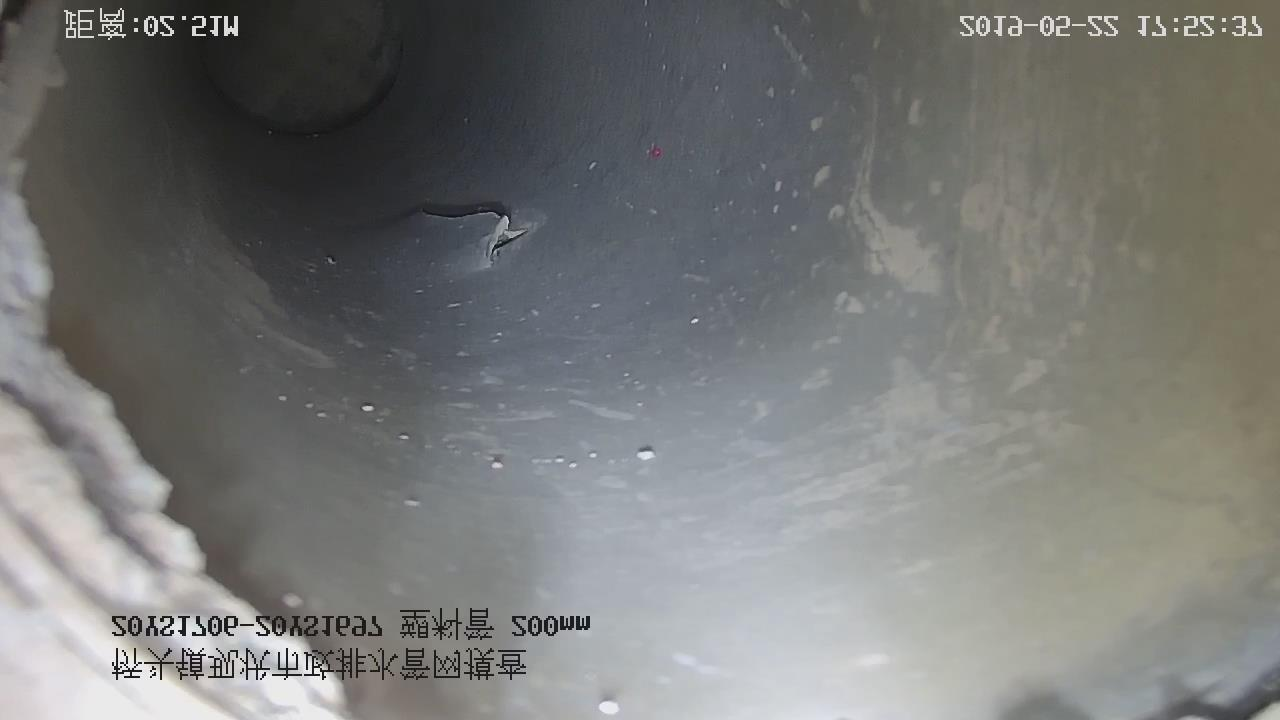PL: (411, 191, 541, 278)
